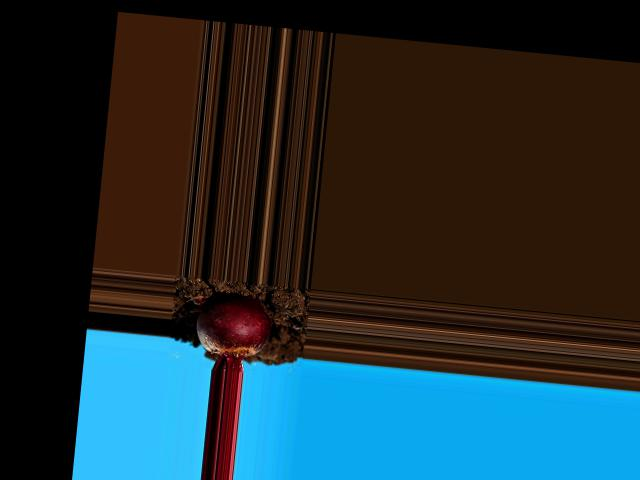beet: (191, 290, 273, 375)
